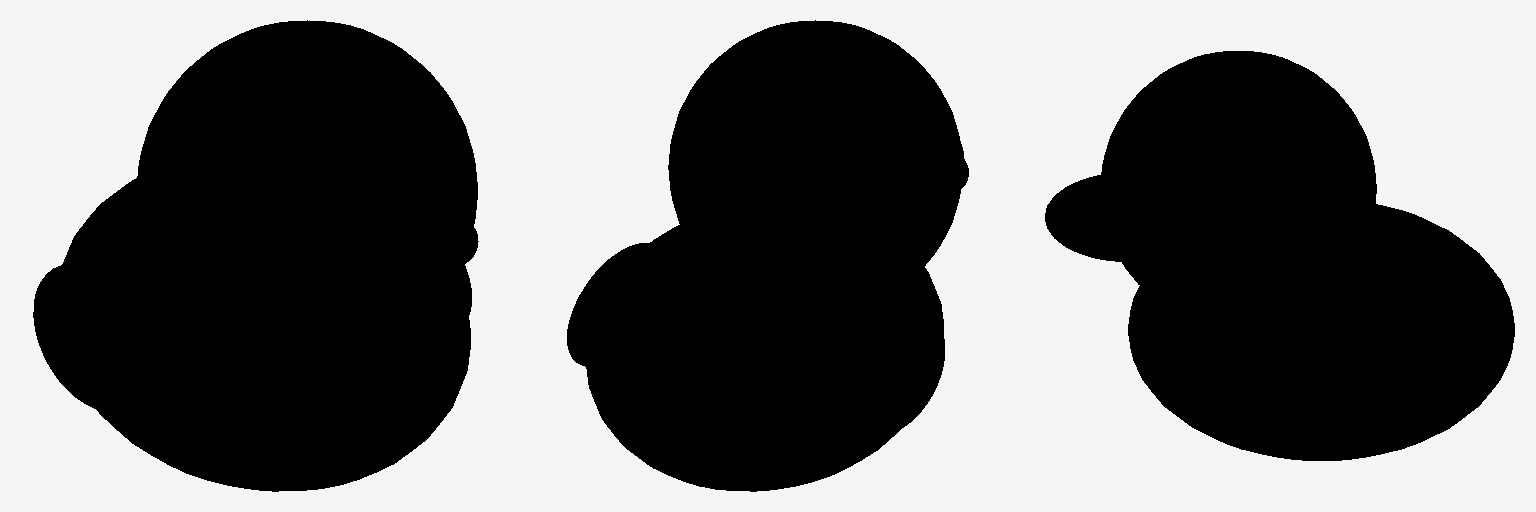
URDF robot description (duck):
<?xml version="1.0" ?>
<robot name="duck">
  <link name="baseLink">
    <contact>
      <lateral_friction value="1.0"/>
      <rolling_friction value="0.0"/>
      <contact_cfm value="0.0"/>
      <contact_erp value="1.0"/>
    </contact>
    <inertial>
      <origin rpy="0 0 0" xyz="-0.0016 -0.0014  0.0364"/>
       <mass value="0.172"/>
       <inertia ixx="0.00011810" ixy="-0.00000119" ixz="0.00000187" iyy="0.00009617" iyz="0.00002273" izz="0.00008876"/>
    </inertial>
    <visual>
      <origin rpy="0 0 0" xyz="-0.0016 -0.0014  0.0364"/>
      <geometry>
        <mesh filename="./stl/duck.stl" scale="0.001 0.001 0.001"/>
      </geometry>
       <material name="black">
        <color rgba="0 0 0 1"/>
      </material>
    </visual>
    <collision concave="yes">
      <origin rpy="0 0 0" xyz="-0.0016 -0.0014  0.0364"/>
      <geometry>
	 	<mesh filename="./stl/duck.stl" scale="0.001 0.001 0.001"/>
      </geometry>
    </collision>
  </link>
</robot>

--- What the picture shows (computed from the rendered views, not written in the file) ---
3 views of the same robot in one strip: view 1: azimuth 30°, elevation 25°; view 2: azimuth 150°, elevation 25°; view 3: azimuth 270°, elevation 25° (orthographic).
Model duck with 1 links and 0 joints (none), rooted at baseLink, posed all joints at 0.
Links seen in each view (by area): view 1: baseLink; view 2: baseLink; view 3: baseLink.
Boxes of the visible links, bbox=[...] form: baseLink: bbox=[33, 20, 478, 491]; baseLink: bbox=[567, 20, 968, 491]; baseLink: bbox=[1045, 51, 1514, 460].
Size in the robot's own frame: 0.0681 by 0.0922 by 0.0813 metres.
1 mesh visuals loaded from 1 distinct referenced files (1 binary STL).
